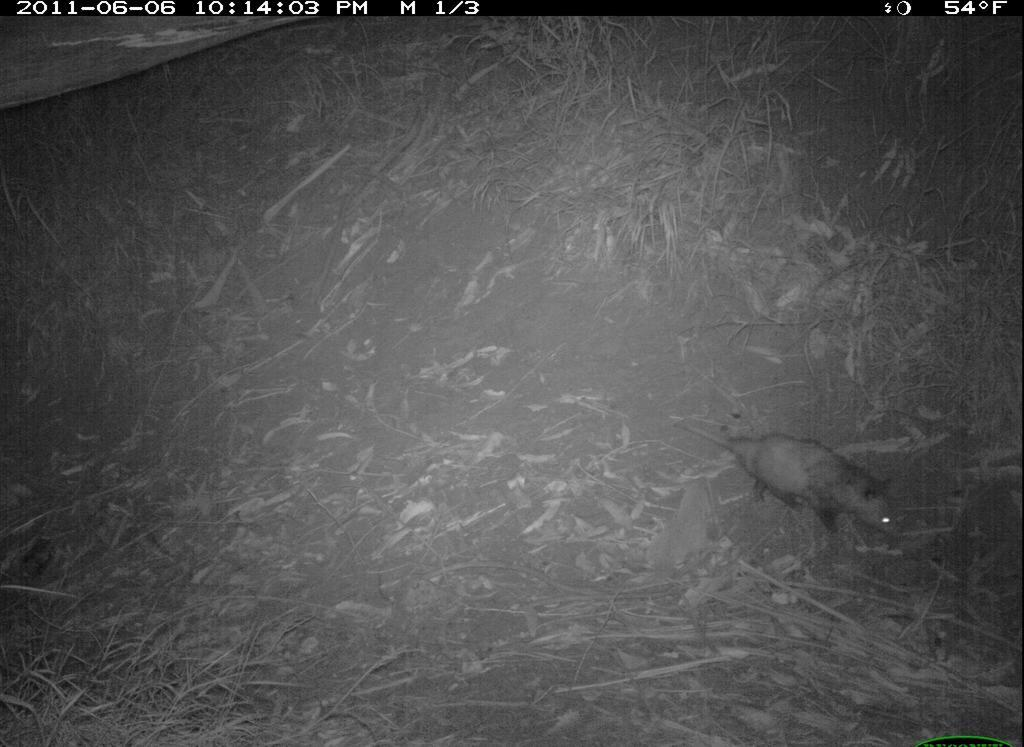opossum: (710, 418, 911, 552)
